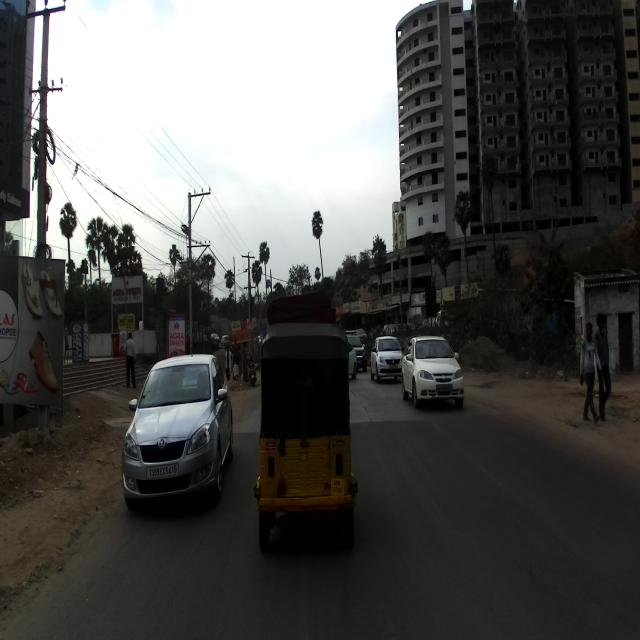auto ahead at: (260, 328, 356, 550)
car ahead at: (125, 356, 231, 503), (407, 336, 467, 416), (374, 336, 403, 379)
